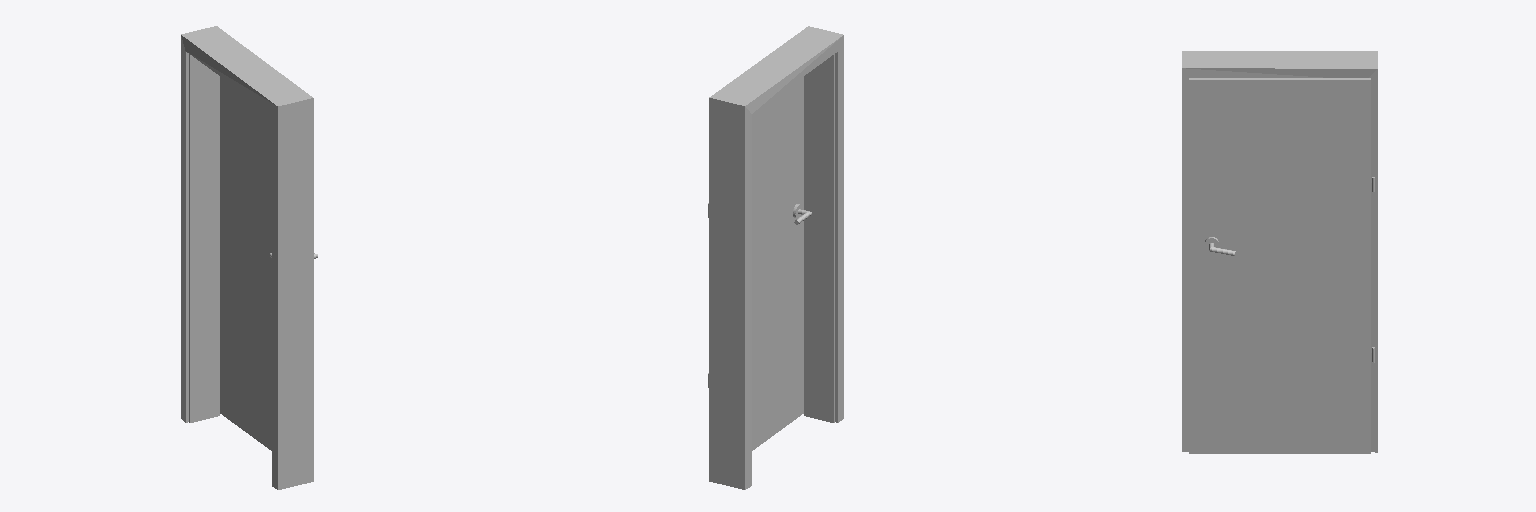
The model's file is door92.obj.
The picture shows the model from 3 angles: view 1: azimuth 30°, elevation 25°; view 2: azimuth 150°, elevation 25°; view 3: azimuth 270°, elevation 25°; orthographic projection.
Visible parts, largest first — view 1: Cylinder.005, Cylinder.001; view 2: Cylinder.005, Cylinder.001; view 3: Cylinder.001, Cylinder.005.
Part boxes in pixels (x1,y1,x2,y2): Cylinder.005: (181,26,313,489); Cylinder.001: (220,77,271,450); Cylinder.005: (708,26,843,489); Cylinder.001: (708,77,803,450); Cylinder.001: (1189,78,1374,453); Cylinder.005: (1182,51,1377,452).
Size of the model in its own units: 0.3039 by 2.05 by 0.95.